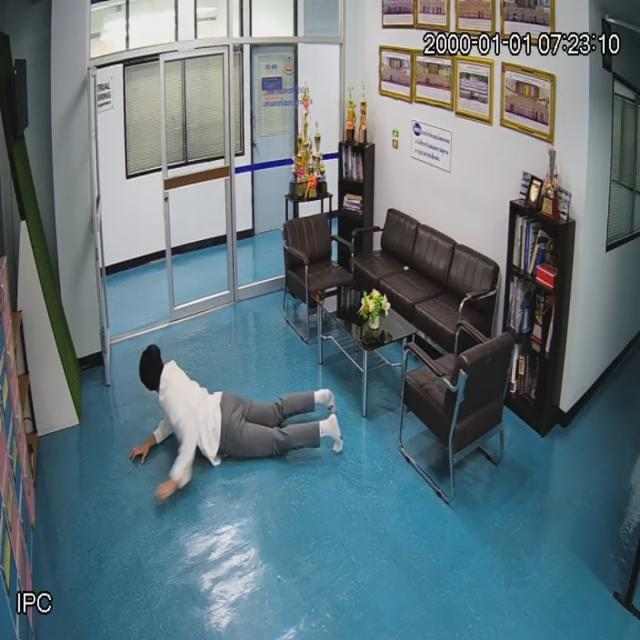fall: (134, 345, 342, 489)
